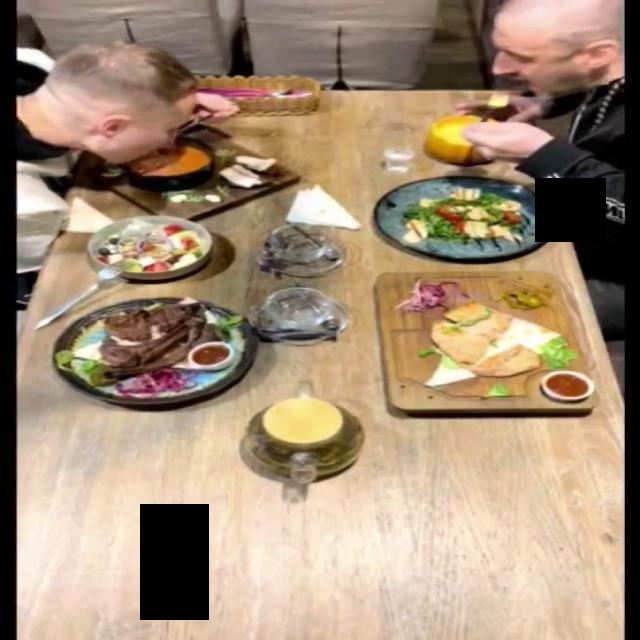meat: (375, 275, 596, 416), (50, 295, 261, 405)
salad: (377, 174, 564, 259), (86, 214, 212, 280)
soup: (73, 128, 302, 220), (425, 115, 502, 162)
tea: (242, 394, 367, 480)
